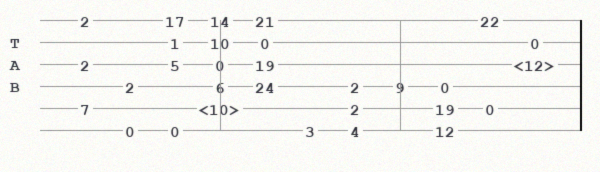0: (125, 123, 139, 137), (170, 123, 184, 137), (215, 57, 229, 71), (260, 35, 274, 49), (440, 79, 454, 93), (485, 101, 499, 115), (530, 35, 544, 49)
1: (170, 35, 184, 49)
10: (210, 35, 234, 49)
12: (435, 123, 459, 137)
14: (210, 13, 234, 27)
17: (165, 13, 189, 27)
19: (255, 57, 279, 71), (435, 101, 459, 115)
2: (80, 57, 94, 71), (80, 13, 94, 27), (125, 79, 139, 93), (350, 101, 364, 115), (350, 79, 364, 93)
21: (255, 13, 279, 27)
22: (480, 13, 504, 27)
24: (255, 79, 279, 93)
3: (305, 123, 319, 137)
4: (350, 123, 364, 137)
5: (170, 57, 184, 71)
6: (215, 79, 229, 93)
7: (80, 101, 94, 115)
9: (395, 79, 409, 93)
harmonic: (199, 101, 244, 115), (514, 57, 559, 71)
